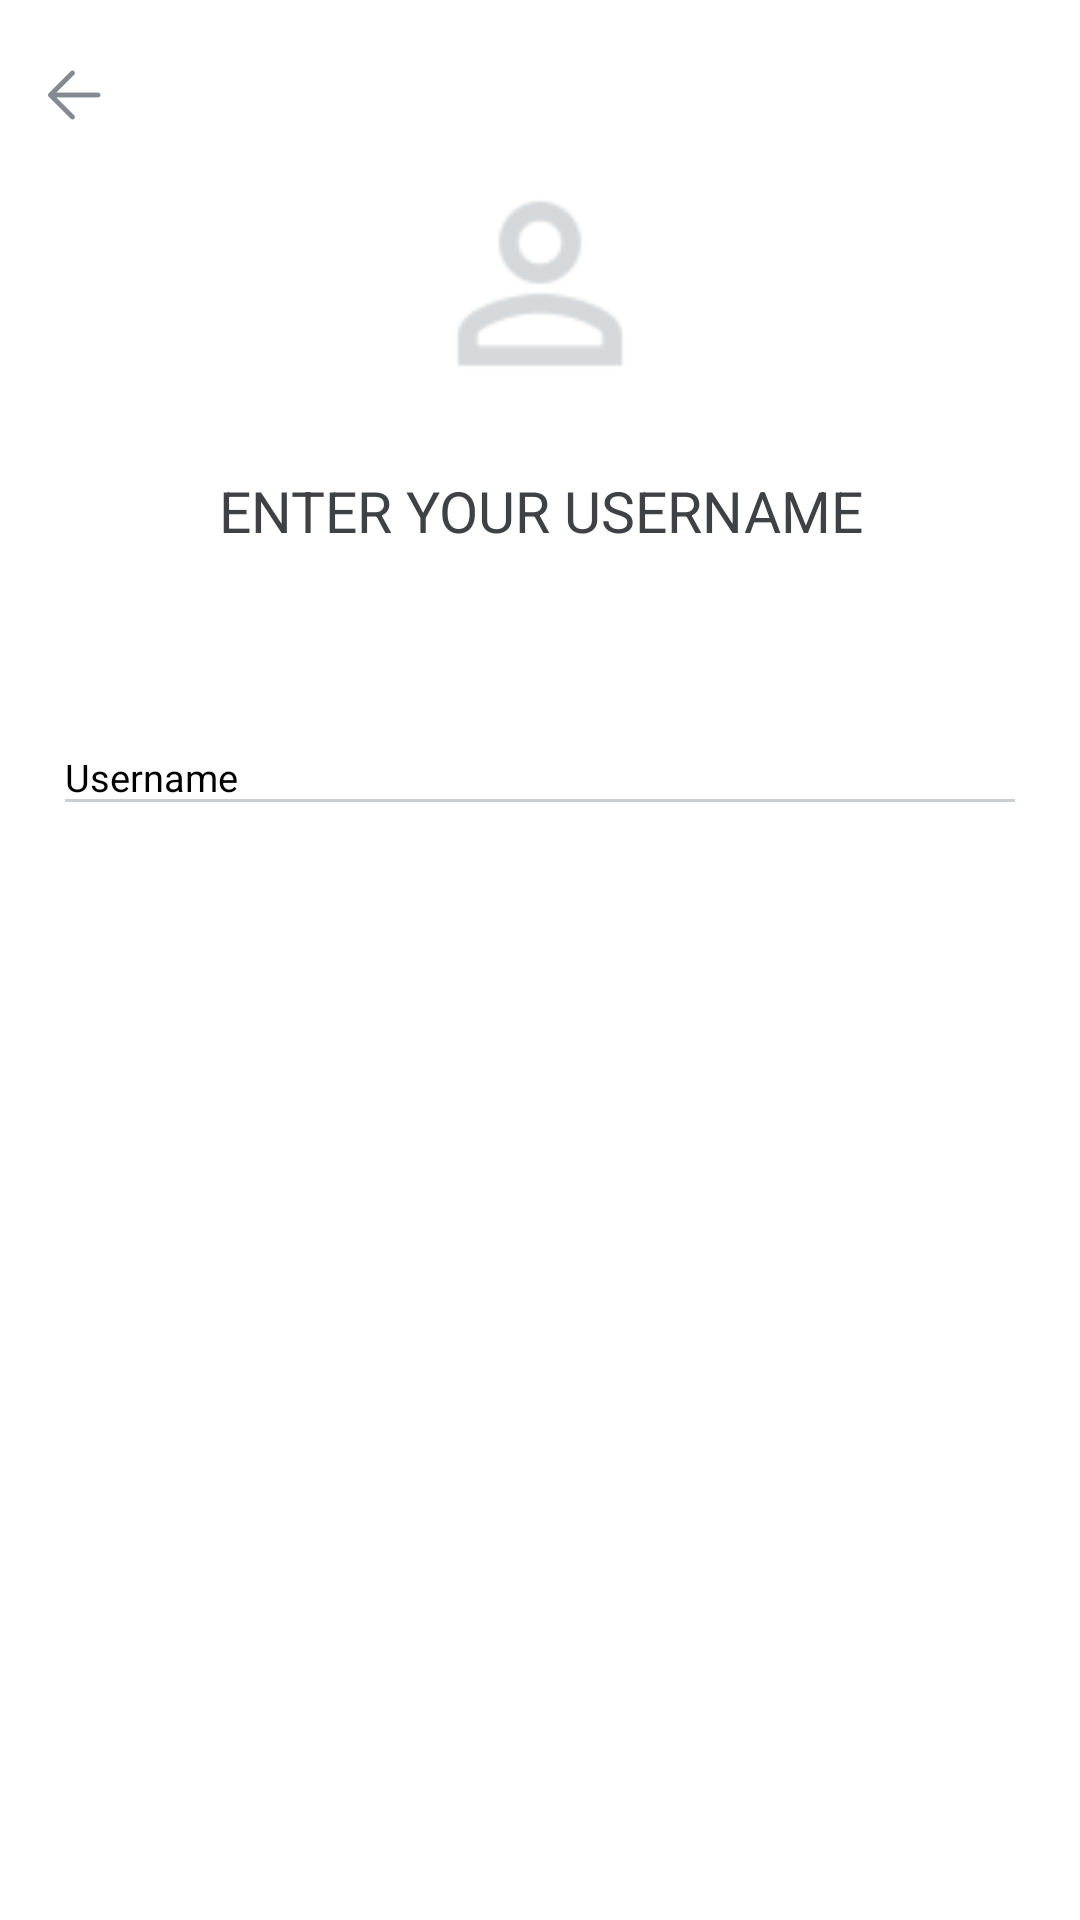

Icons on this 1080×1920 Android screen, each with the point to tap as (x,y):
back: (74,95)
